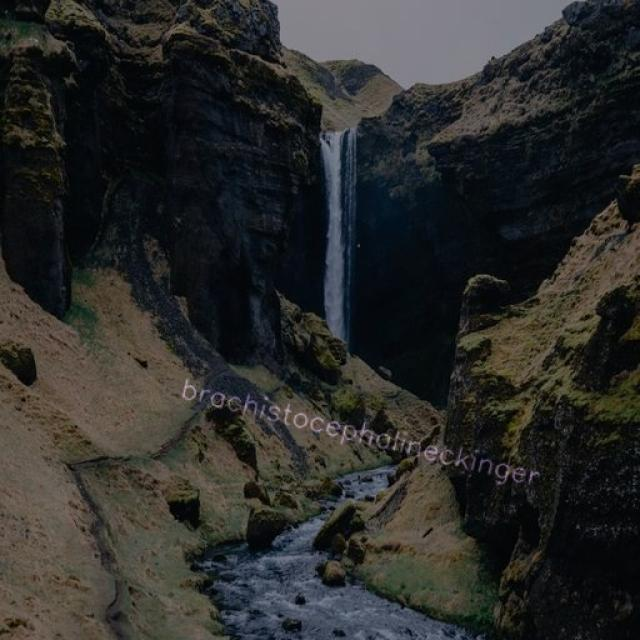watermark: (172, 375, 556, 491)
